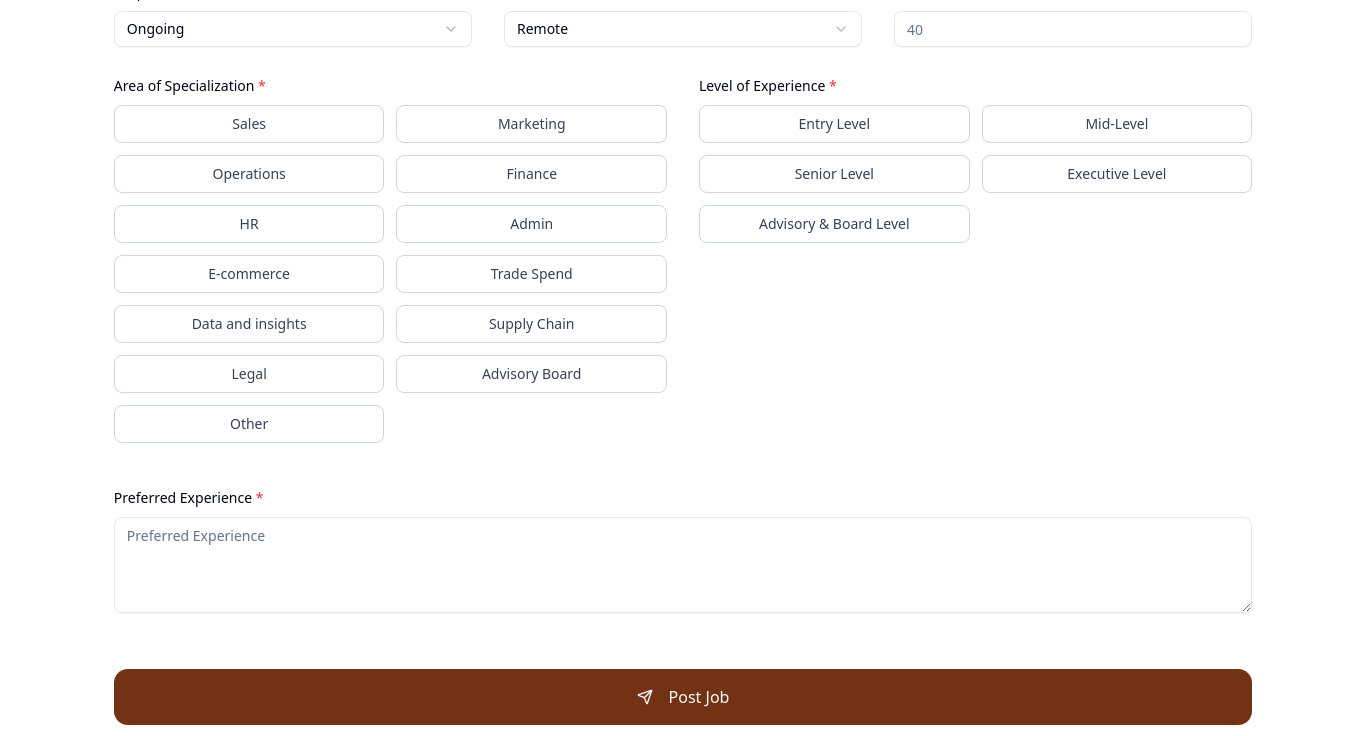
Test: PostJob Component › Form Validation › should show validation errors on empty submit
(page scrolled)
Click the button "Post Job" at (683, 697), box x1=114 y1=669 x2=1252 y2=725
(page scrolled)
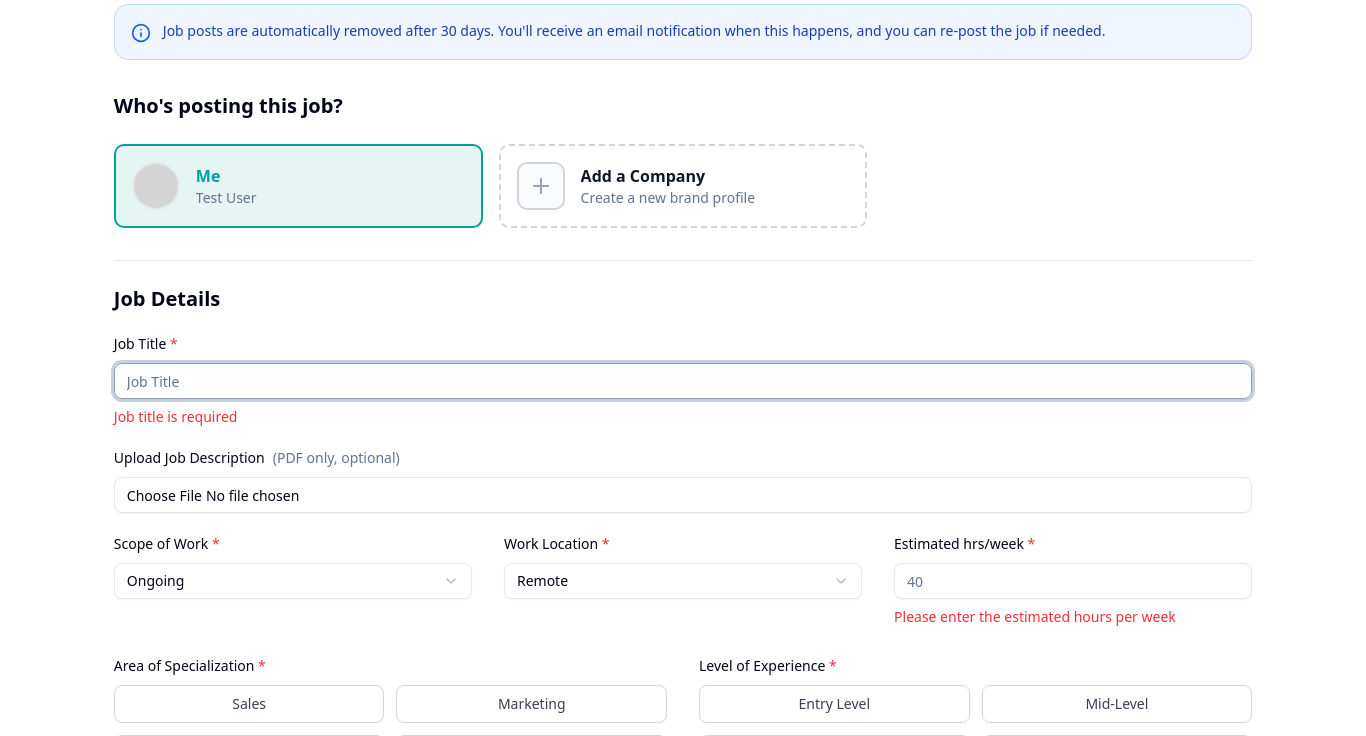
Expected: the text "Job title is required" is shown, x1=114 y1=407 x2=238 y2=426
